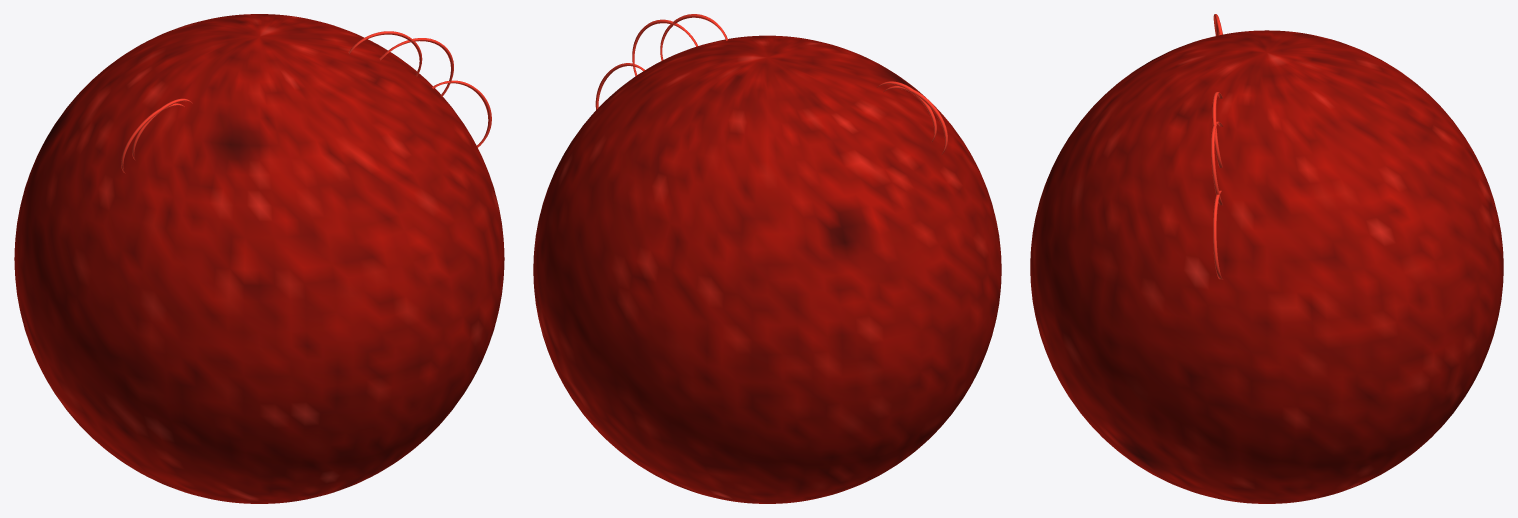
Rendered from Star_38.fbx.
The picture shows the model from 3 angles, left to right: view 1: azimuth 30°, elevation 25°; view 2: azimuth 150°, elevation 25°; view 3: azimuth 270°, elevation 25°; orthographic projection. The views are drawn at different scales.
Visible parts, largest first — view 1: Star_38; view 2: Star_38; view 3: Star_38.
Boxes of the visible parts, x1,y1,x2,y2 form: Star_38: (14, 14, 504, 503); Star_38: (533, 14, 1001, 503); Star_38: (1030, 14, 1503, 503).
Size of the model in its own units: 200 by 200 by 200.
